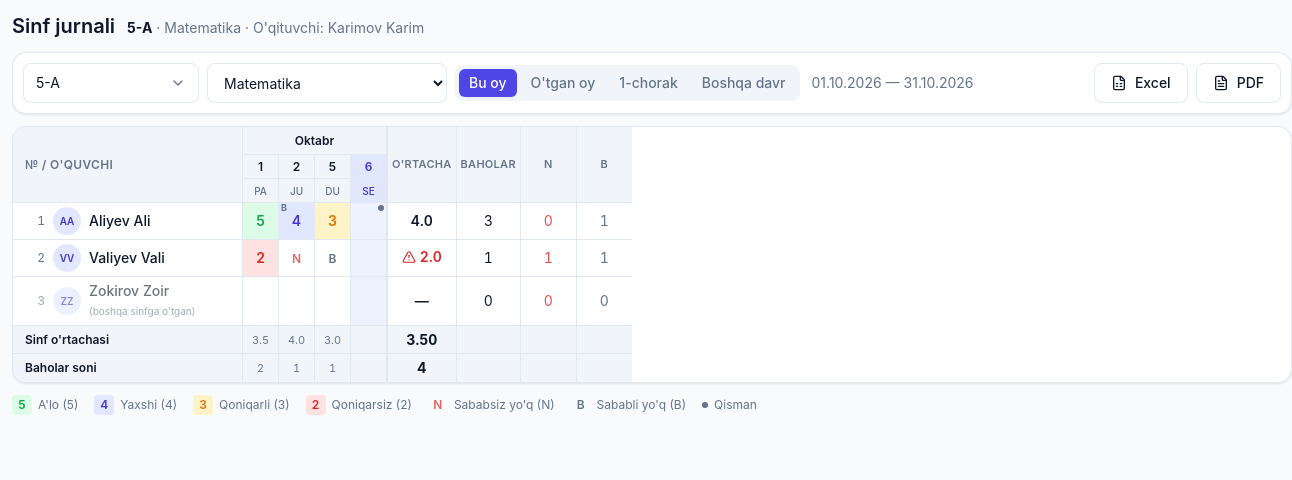
Test: JournalView: filtrlar va URL › o`zboshimchalik davr: 93 kundan uzun bo`lsa xato va so`rov yo`q
Click the radio button labelled "Boshqa davr" at (744, 83), box [692,69,796,97]
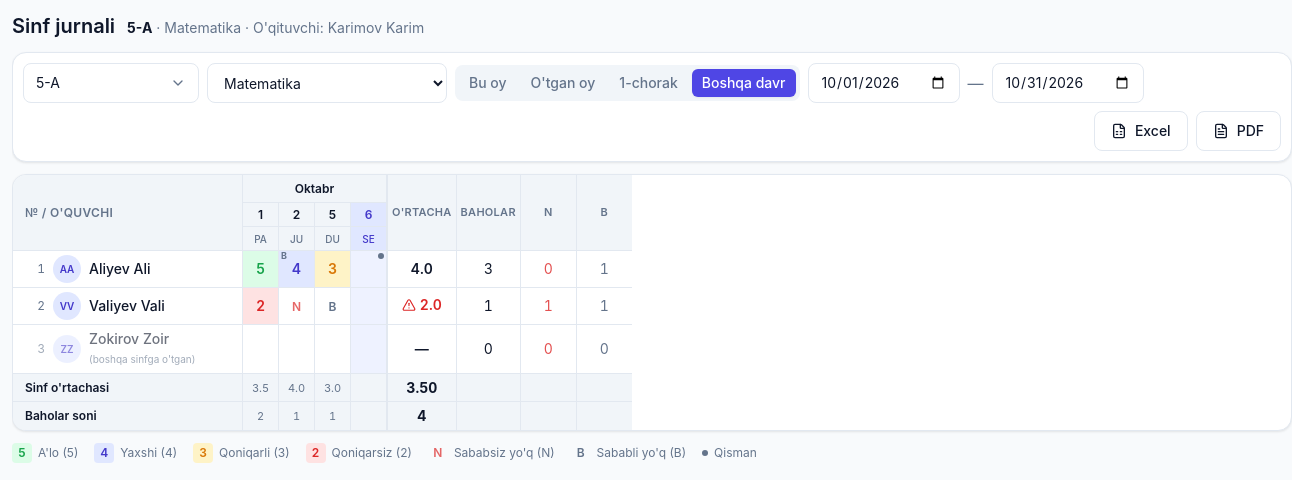
Type "2027-03-01" into the date field with test id "filter-to" at (1068, 83), box [992,63,1144,103]
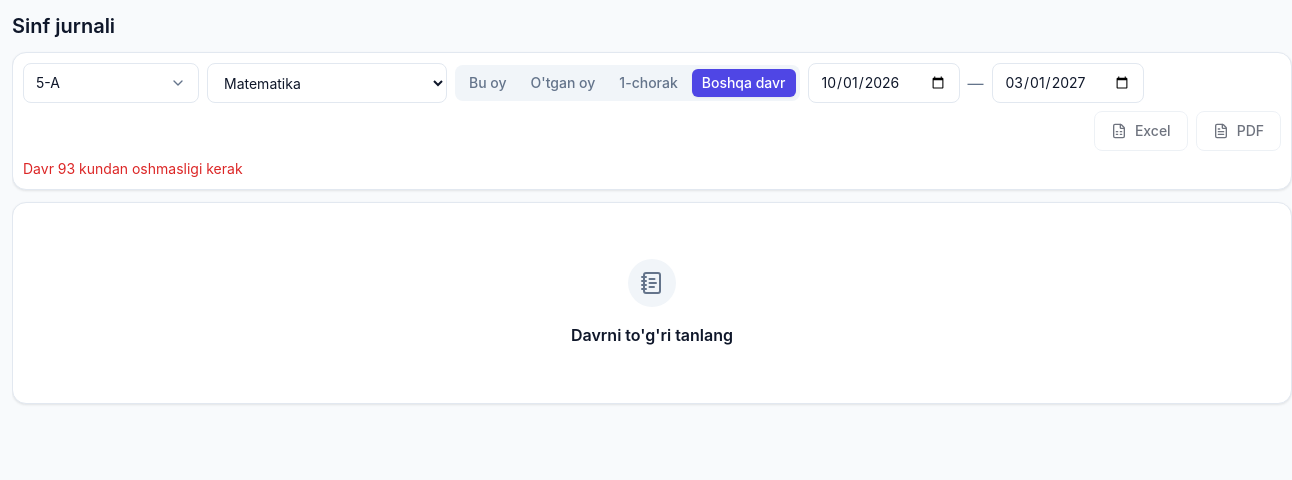
Check: the message "Davr 93 kundan oshmasligi kerak" is shown, box [23,160,243,177]
Check: the button with test id "export-pdf" is disabled, box [1196,111,1281,151]
